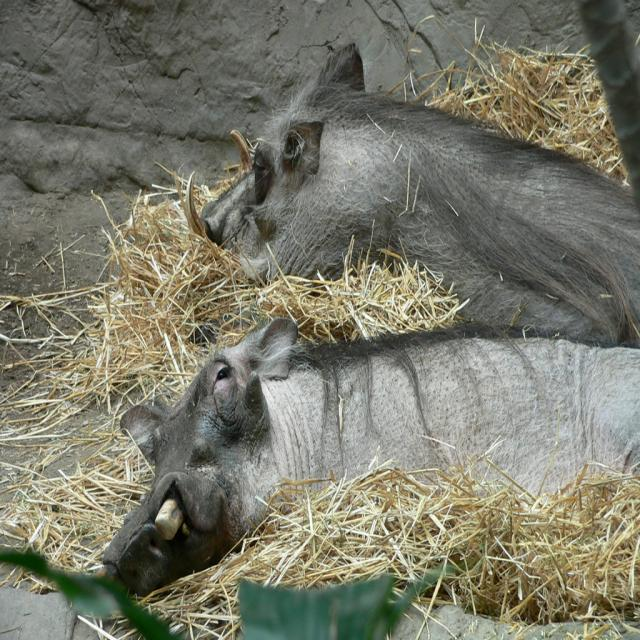Pig: (101, 317, 640, 597), (185, 39, 640, 347)
